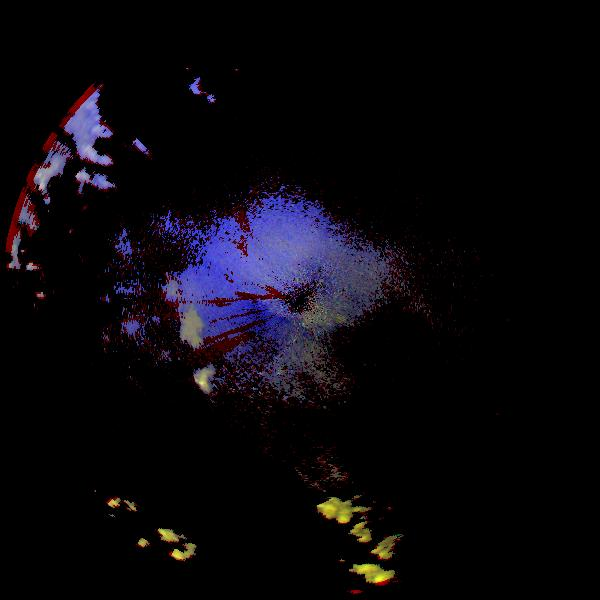roost: (97, 287, 241, 431)
